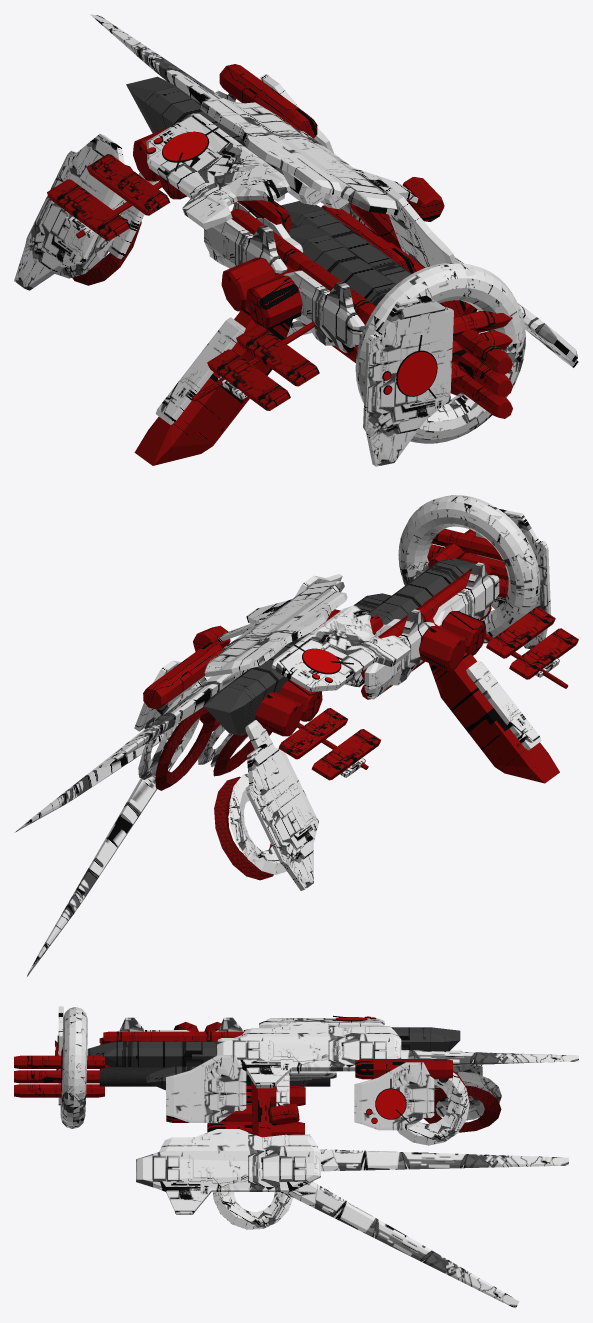
Rendered from hornet.gltf.
The picture shows the model from 3 angles, top to bottom: view 1: azimuth 30°, elevation 25°; view 2: azimuth 150°, elevation 25°; view 3: azimuth 270°, elevation 25°; orthographic projection. The views are drawn at different scales.
Visible parts, largest first — view 1: base_multi_materials; view 2: base_multi_materials; view 3: base_multi_materials.
Part boxes in pixels (bbox=[...]): base_multi_materials: bbox=[14, 14, 578, 466]; base_multi_materials: bbox=[14, 495, 578, 976]; base_multi_materials: bbox=[14, 1006, 578, 1308].
Size of the model in its own units: 6.3 by 5.36 by 11.55.
Materials: 7 (5 with a texture image).
